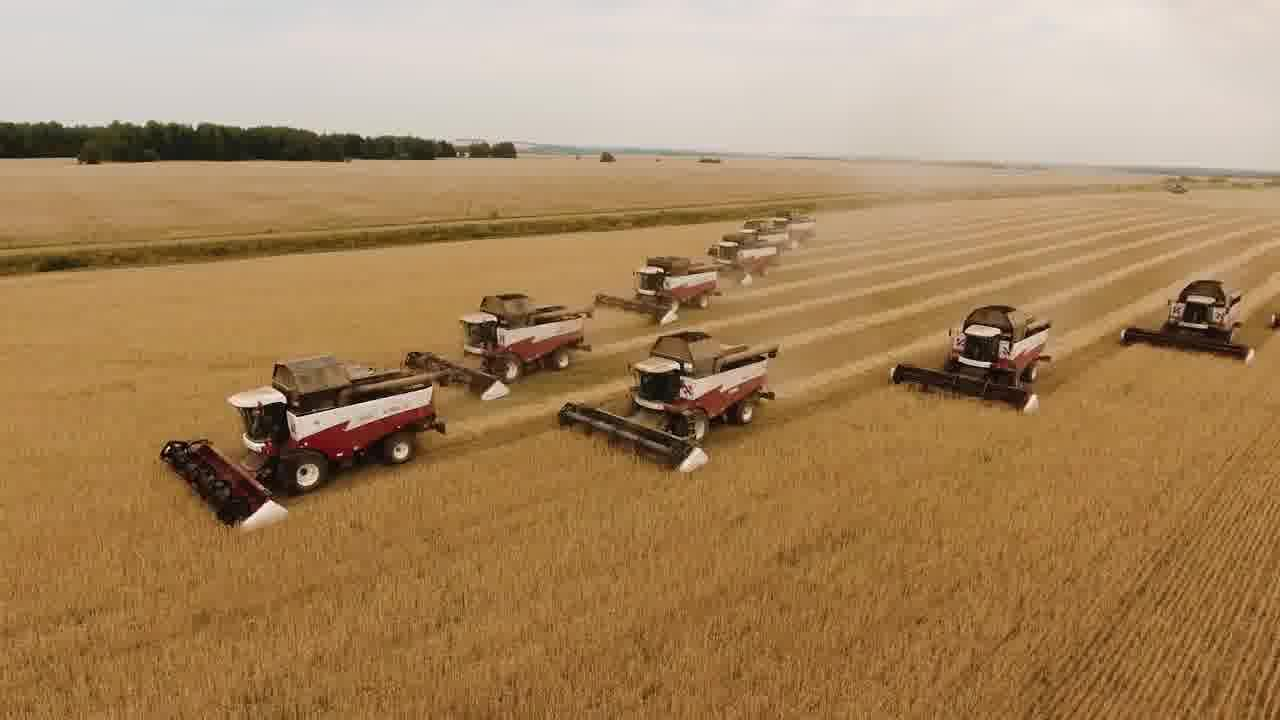combine harvester: (154, 344, 445, 535), (553, 324, 790, 482), (399, 276, 595, 401), (886, 298, 1056, 417), (1113, 271, 1261, 373), (589, 248, 724, 326), (712, 226, 780, 291), (773, 202, 819, 240)
